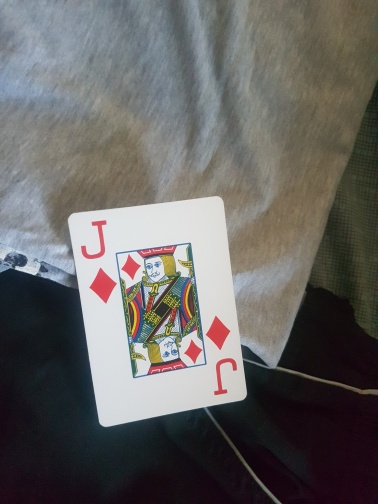jack: (67, 197, 246, 426)
